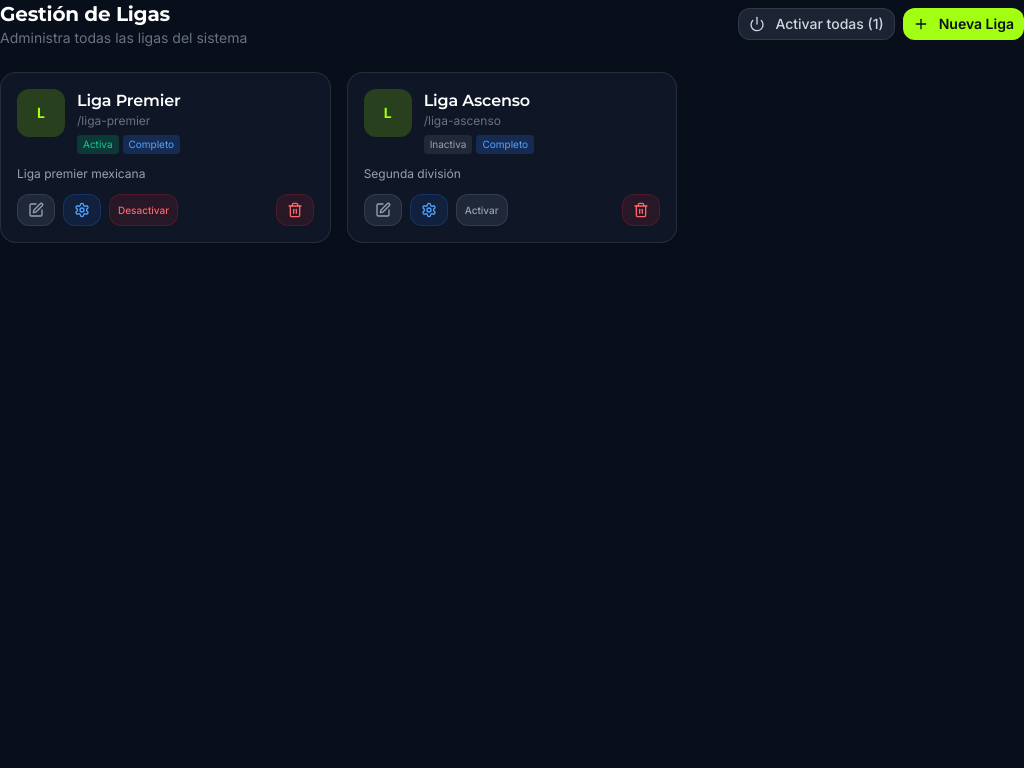
Test case: Change the admin of a league › shows the 422 of a non league admin next to the select and keeps the selection
Expected: the heading "Liga Premier" is shown, x1=77 y1=91 x2=181 y2=110
Click the button named "editar " at (36, 210), box x1=17 y1=194 x2=55 y2=226
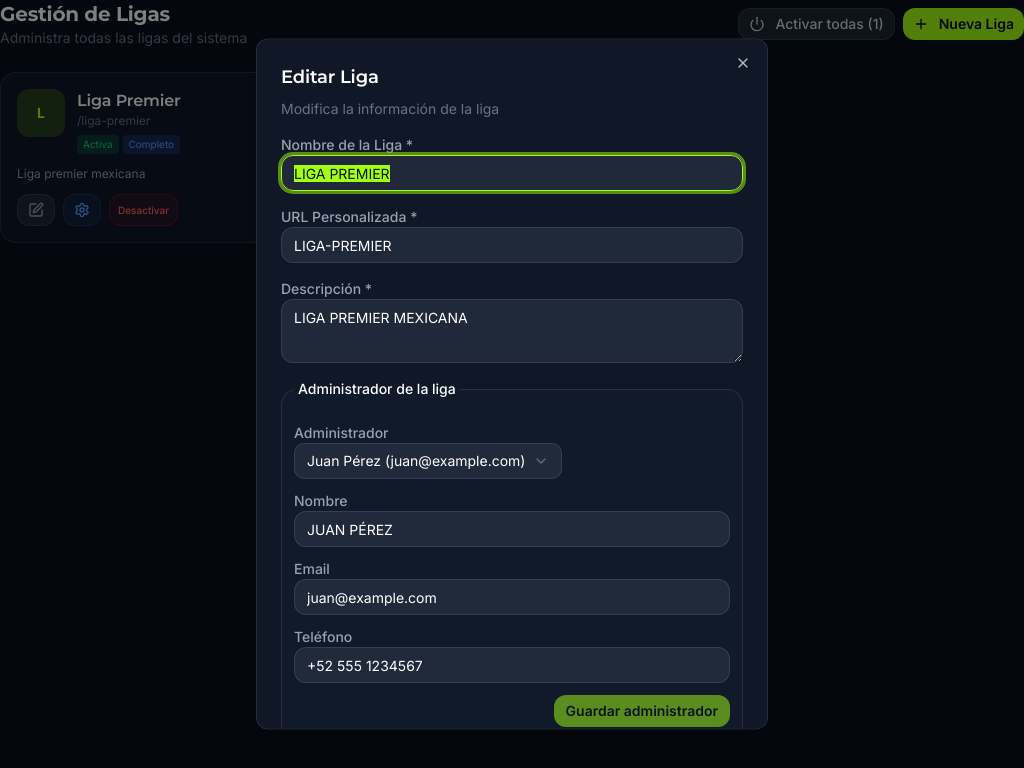
Expected: the field labelled "Email" is shown, x1=294 y1=579 x2=730 y2=615
Click the dropdown named "Administrador" at (428, 461), box x1=294 y1=443 x2=562 y2=479
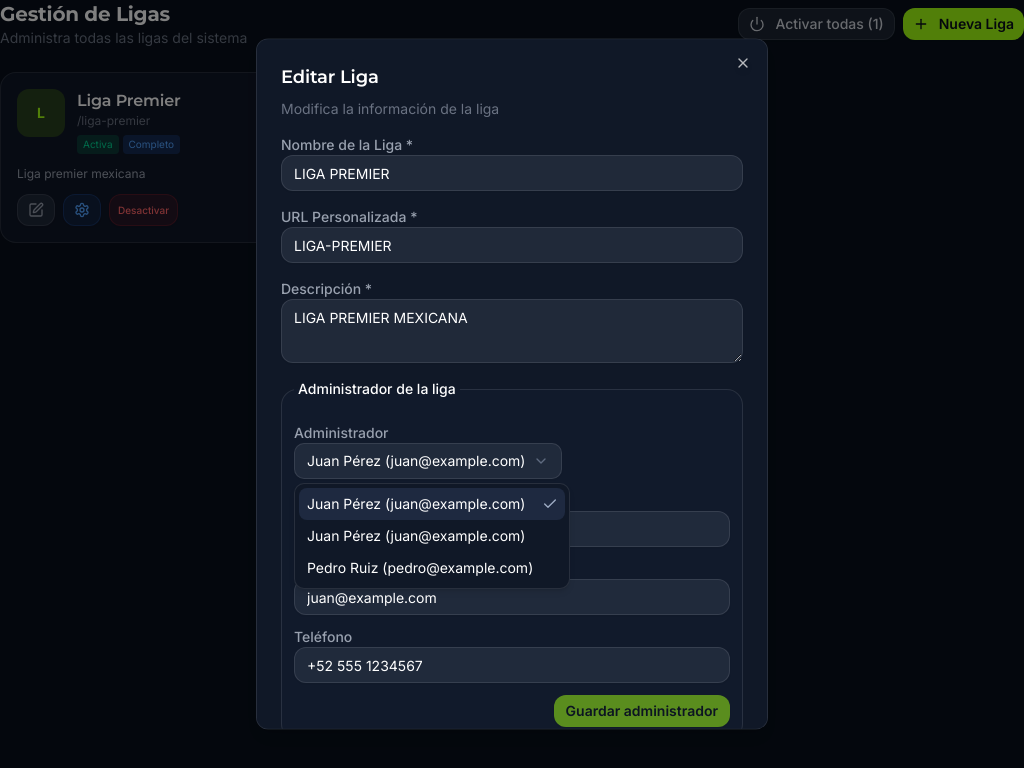
Click the option "Pedro Ruiz (pedro@example.com)" at (420, 568), box x1=307 y1=559 x2=533 y2=576
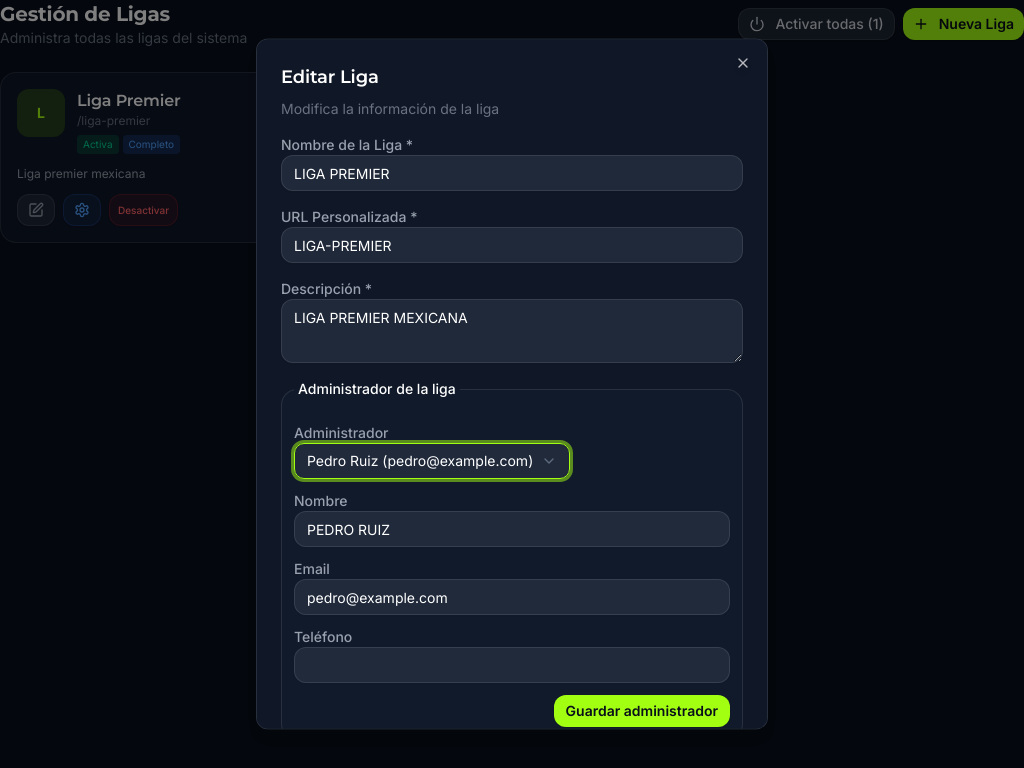
Expected: the field labelled "Email" holds "pedro@example.com", x1=294 y1=579 x2=730 y2=615
Click the button "Guardar administrador" at (642, 711), box x1=554 y1=695 x2=730 y2=727
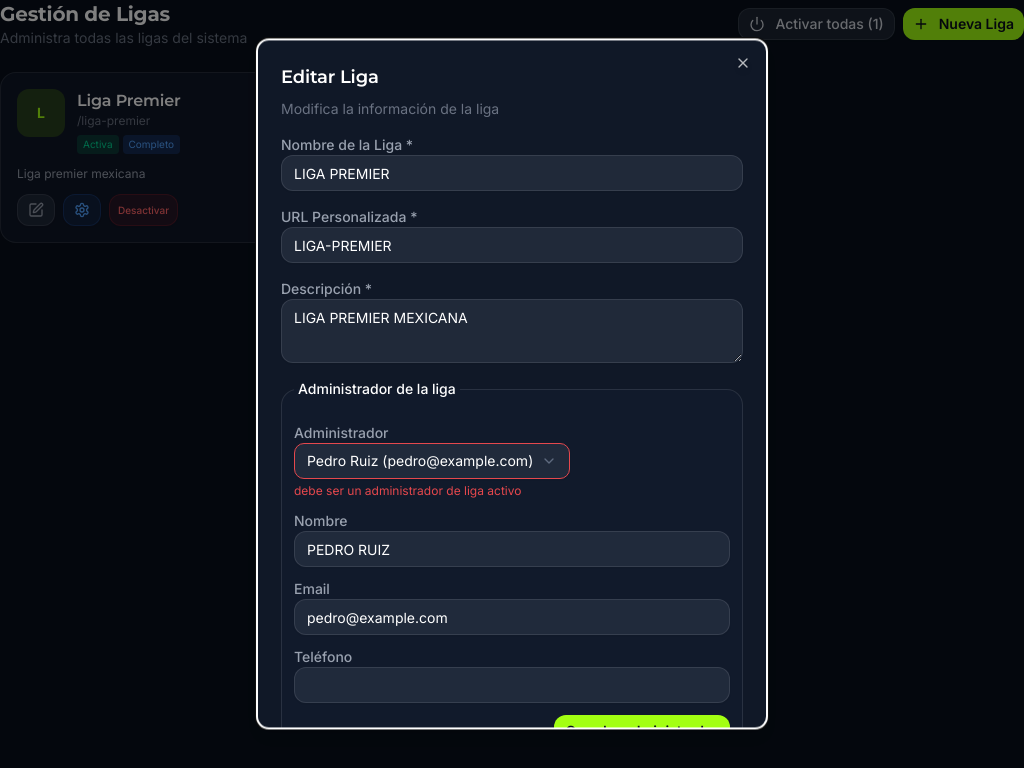
Expected: the dropdown named "Administrador" shows "Pedro Ruiz", x1=294 y1=443 x2=570 y2=479
Expected: the text "debe ser un administrador de liga activo" is shown, x1=294 y1=483 x2=521 y2=498
